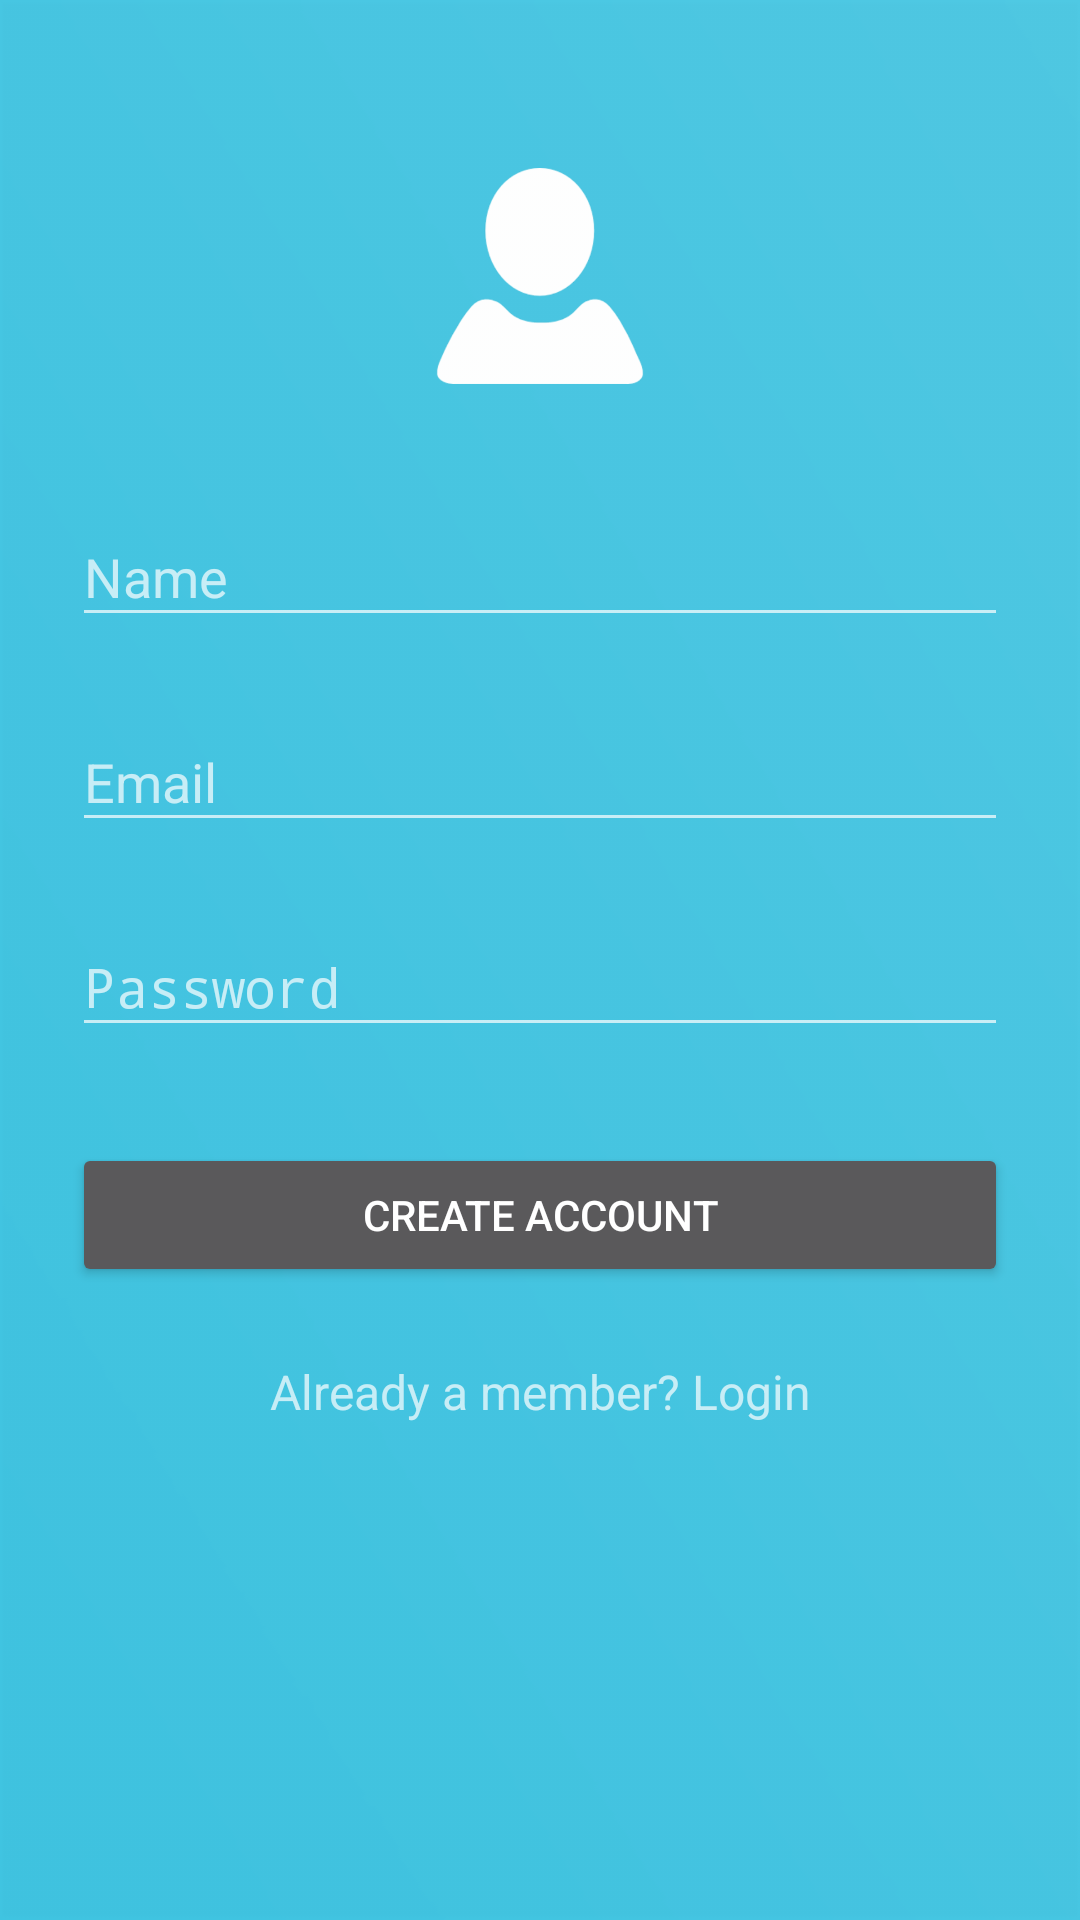

Locate icon controls on the screen. Image size 1080×1920, boxes as (x1, y1, x2, y2).
user shape: (437, 168, 643, 384)
